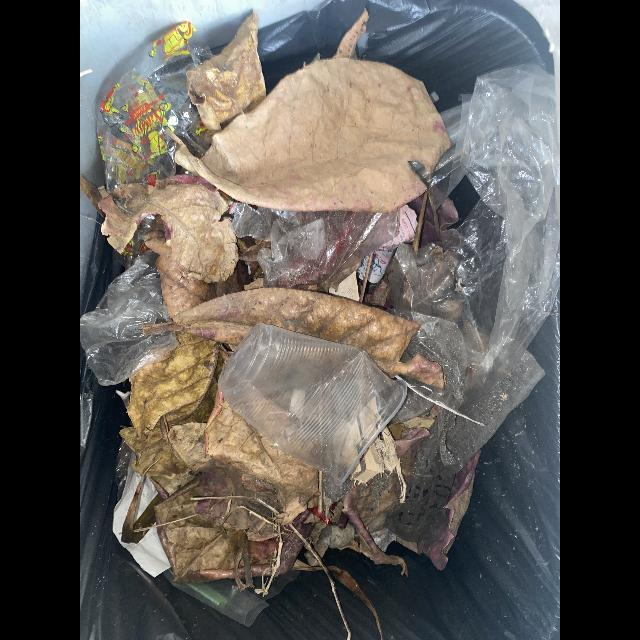biowaste: (167, 58, 452, 213), (121, 391, 320, 596), (142, 288, 447, 389), (80, 174, 239, 317), (119, 333, 233, 500), (186, 9, 267, 143)
